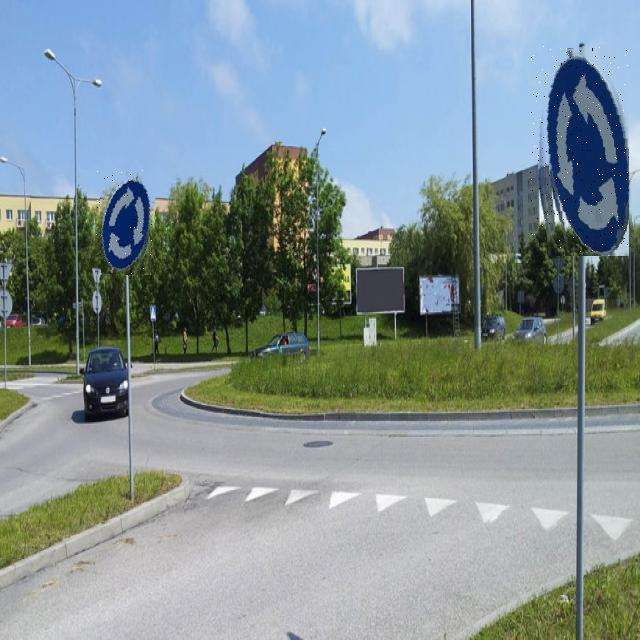roundabout: (530, 46, 629, 256), (95, 168, 155, 275)
